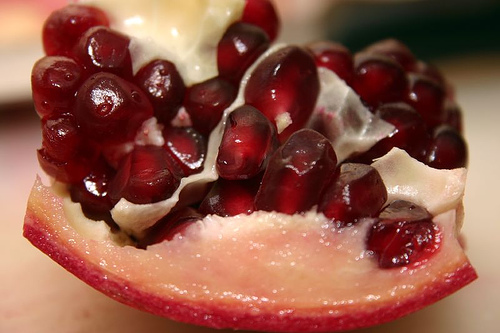pomogranate: (23, 0, 480, 332)
